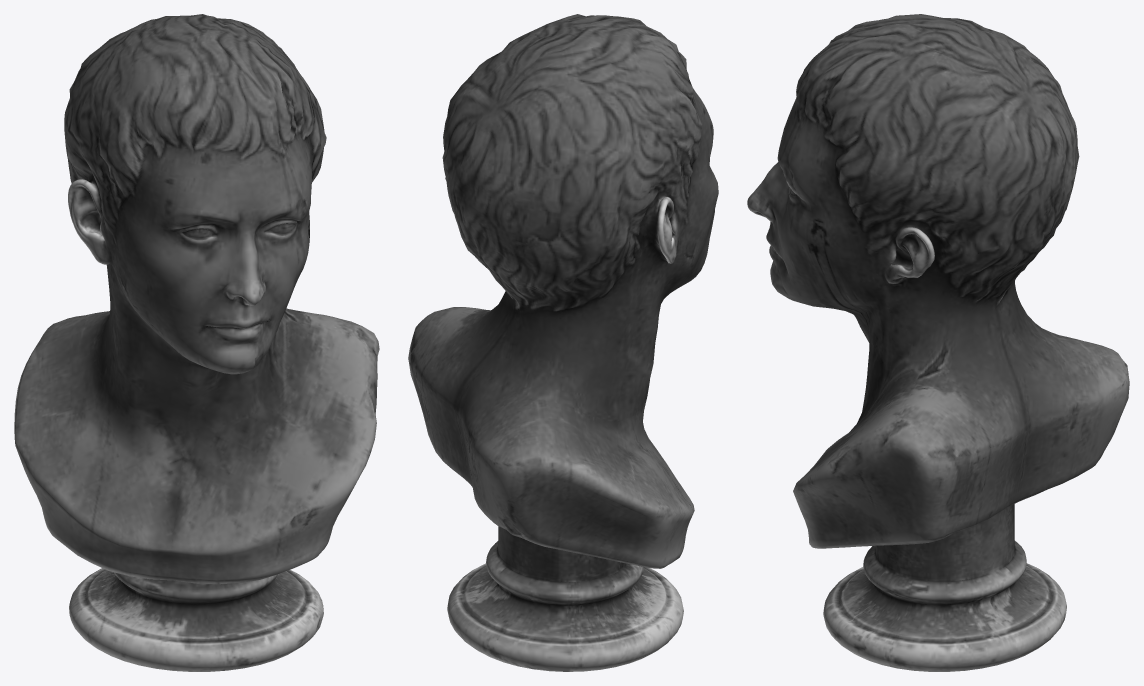
The model's file is bust.glb.
3 renders of one model, left to right at view 1: azimuth 30°, elevation 25°; view 2: azimuth 150°, elevation 25°; view 3: azimuth 270°, elevation 25°, orthographic. The views are drawn at different scales.
Parts seen in each view (by area): view 1: Bust marble_bust_01; view 2: Bust marble_bust_01; view 3: Bust marble_bust_01.
Part boxes in pixels (left/top/right/bottom): Bust marble_bust_01: left=14, top=14, right=379, bottom=671; Bust marble_bust_01: left=408, top=14, right=718, bottom=671; Bust marble_bust_01: left=747, top=14, right=1129, bottom=671.
Bounding box in the file's own units: 0.1161 × 0.22 × 0.128.
1 material, 1 textured.
